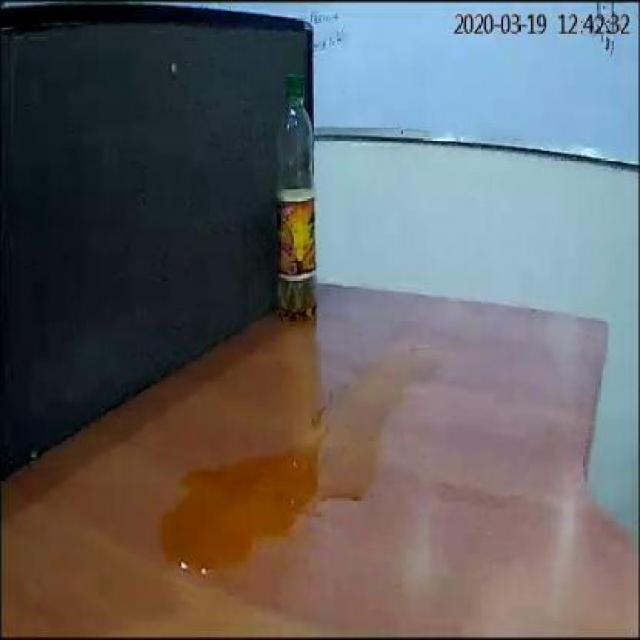spill: (149, 348, 429, 580)
